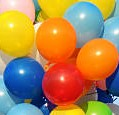Balloon: (42, 63, 86, 105), (76, 39, 119, 81), (36, 18, 76, 63), (4, 58, 44, 99), (1, 11, 35, 57)
